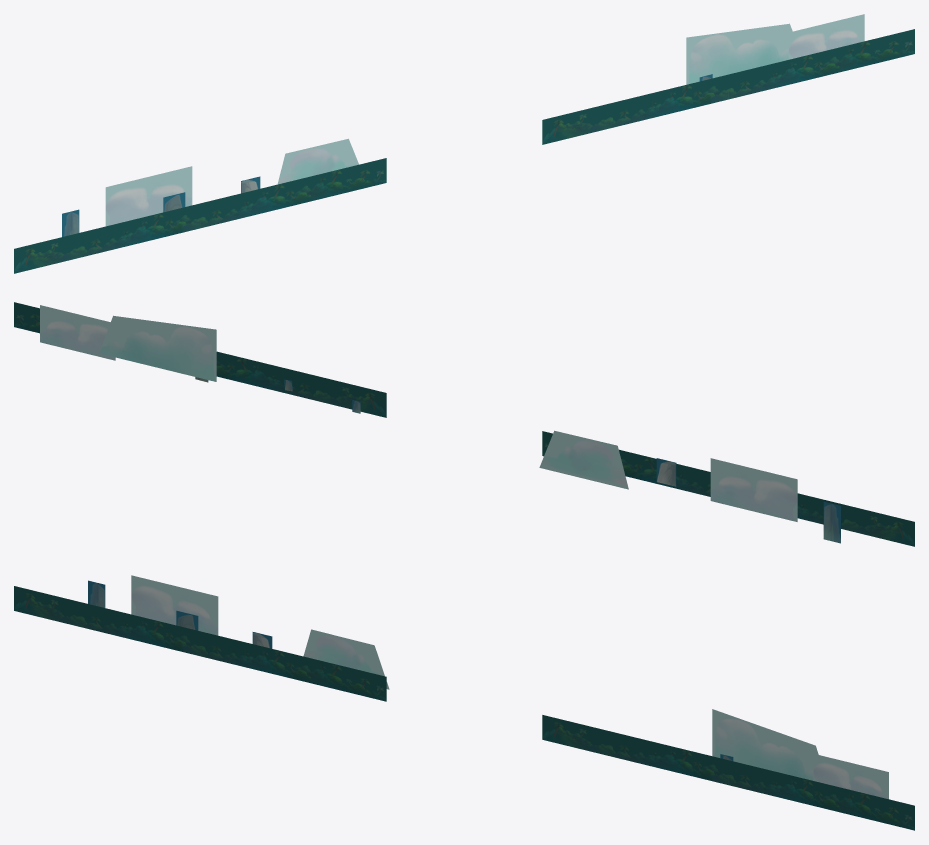
Rendered from battle_002@skin.FBX.
3 renders of one model, top to bottom at view 1: azimuth 30°, elevation 25°; view 2: azimuth 150°, elevation 25°; view 3: azimuth 330°, elevation 25°, orthographic.
Visible parts, largest first — view 1: body; view 2: body; view 3: body.
Part boxes in pixels (x1,y1,x2,y2): body: (14,14,914,273); body: (14,302,914,546); body: (14,575,914,830).
Bounding box in the file's own units: 2004 × 131 × 50.
Materials: 1 (1 with a texture image).
